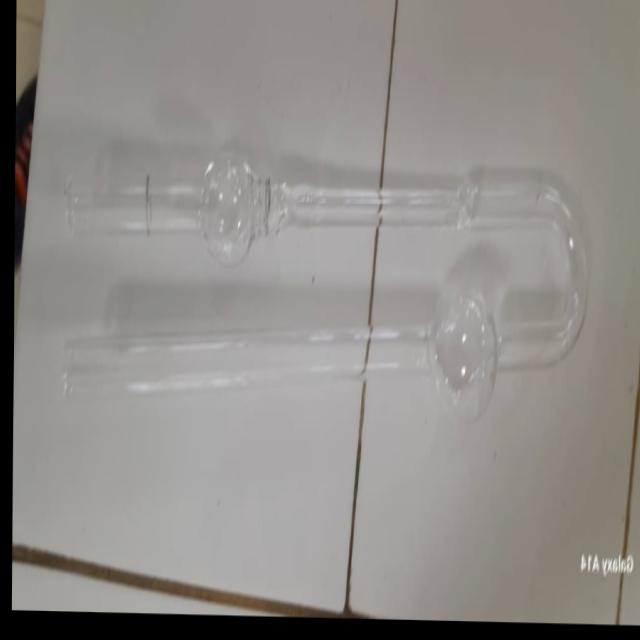Ostwald Viscometer: (48, 151, 595, 417)
